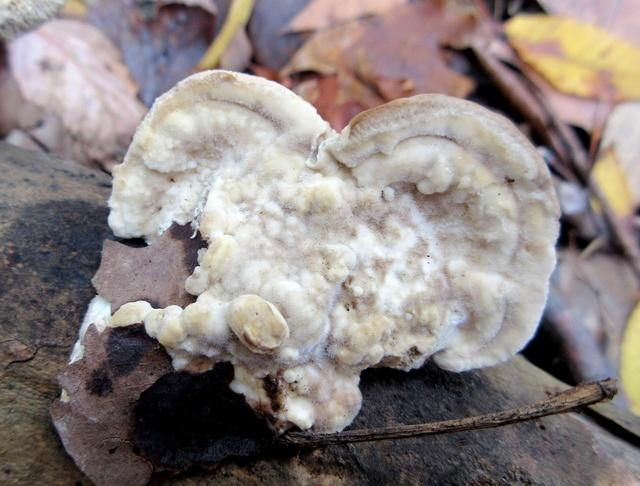Non-edible Mushroom: (74, 67, 563, 437)
